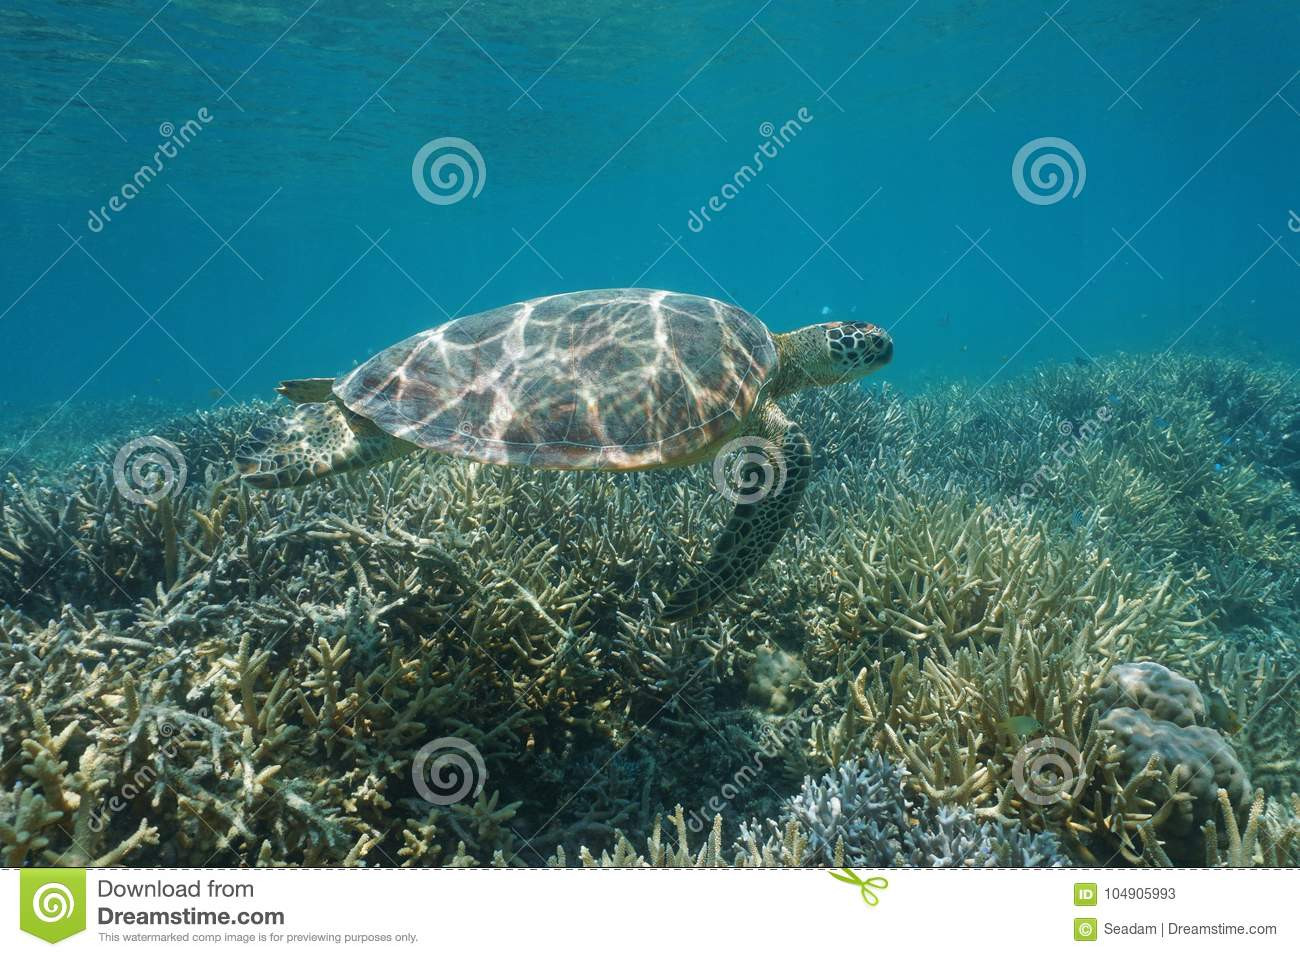trutle: (247, 270, 953, 625)
